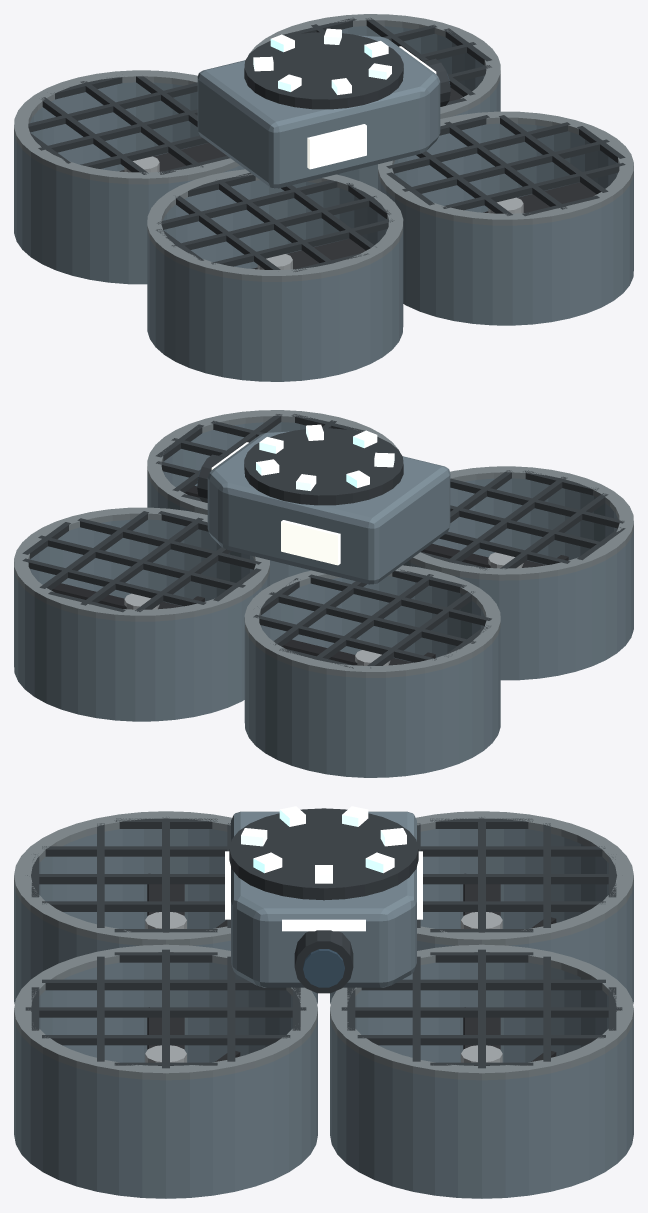
Rendered from drone-2762-spec2027.glb.
The picture shows the model from 3 angles, top to bottom: view 1: azimuth 30°, elevation 25°; view 2: azimuth 150°, elevation 25°; view 3: azimuth 270°, elevation 25°; orthographic projection. The views are drawn at different scales.
Visible parts, largest first — view 1: DroneBody_TeamPrimaryShell, DroneBody_RobotMatteGraphite, DroneBody_RobotMatteAluminum, DroneBody_TeamGlow, DroneBody_StatusWhite, Rotor_2_CarbonPlate, Rotor_0_CarbonPlate, Rotor_1_CarbonPlate; view 2: DroneBody_TeamPrimaryShell, DroneBody_RobotMatteGraphite, DroneBody_RobotMatteAluminum, DroneBody_TeamGlow, DroneBody_StatusWhite, Rotor_1_CarbonPlate, Rotor_3_CarbonPlate, Rotor_0_CarbonPlate; view 3: DroneBody_TeamPrimaryShell, DroneBody_RobotMatteGraphite, DroneBody_RobotMatteAluminum, DroneBody_TeamGlow, DroneBody_StatusWhite, FpvLens, Rotor_2_CarbonPlate, Rotor_3_CarbonPlate, Rotor_0_CarbonPlate, Rotor_1_CarbonPlate.
Part boxes in pixels (bbox=[...]): DroneBody_TeamPrimaryShell: bbox=[14, 26, 633, 381]; DroneBody_RobotMatteGraphite: bbox=[28, 17, 625, 271]; DroneBody_RobotMatteAluminum: bbox=[14, 14, 633, 281]; DroneBody_TeamGlow: bbox=[253, 28, 391, 94]; DroneBody_StatusWhite: bbox=[307, 46, 436, 169]; Rotor_2_CarbonPlate: bbox=[483, 182, 596, 212]; Rotor_0_CarbonPlate: bbox=[252, 238, 365, 269]; Rotor_1_CarbonPlate: bbox=[119, 143, 226, 171]; DroneBody_TeamPrimaryShell: bbox=[14, 422, 633, 777]; DroneBody_RobotMatteGraphite: bbox=[22, 414, 625, 668]; DroneBody_RobotMatteAluminum: bbox=[14, 410, 633, 677]; DroneBody_TeamGlow: bbox=[256, 424, 394, 490]; DroneBody_StatusWhite: bbox=[211, 442, 340, 565]; Rotor_1_CarbonPlate: bbox=[282, 639, 412, 665]; Rotor_3_CarbonPlate: bbox=[51, 583, 182, 609]; Rotor_0_CarbonPlate: bbox=[421, 543, 545, 567]; DroneBody_TeamPrimaryShell: bbox=[14, 811, 633, 1198]; DroneBody_RobotMatteGraphite: bbox=[25, 808, 622, 1068]; DroneBody_RobotMatteAluminum: bbox=[14, 811, 633, 1080]; DroneBody_TeamGlow: bbox=[241, 806, 406, 883]; DroneBody_StatusWhite: bbox=[225, 851, 422, 931]; FpvLens: bbox=[303, 949, 344, 987]; Rotor_2_CarbonPlate: bbox=[147, 1007, 184, 1049]; Rotor_3_CarbonPlate: bbox=[463, 1007, 500, 1049]; Rotor_0_CarbonPlate: bbox=[147, 873, 184, 916]; Rotor_1_CarbonPlate: bbox=[463, 873, 500, 916].
Bounding box in the file's own units: 0.095 × 0.0386 × 0.095.
